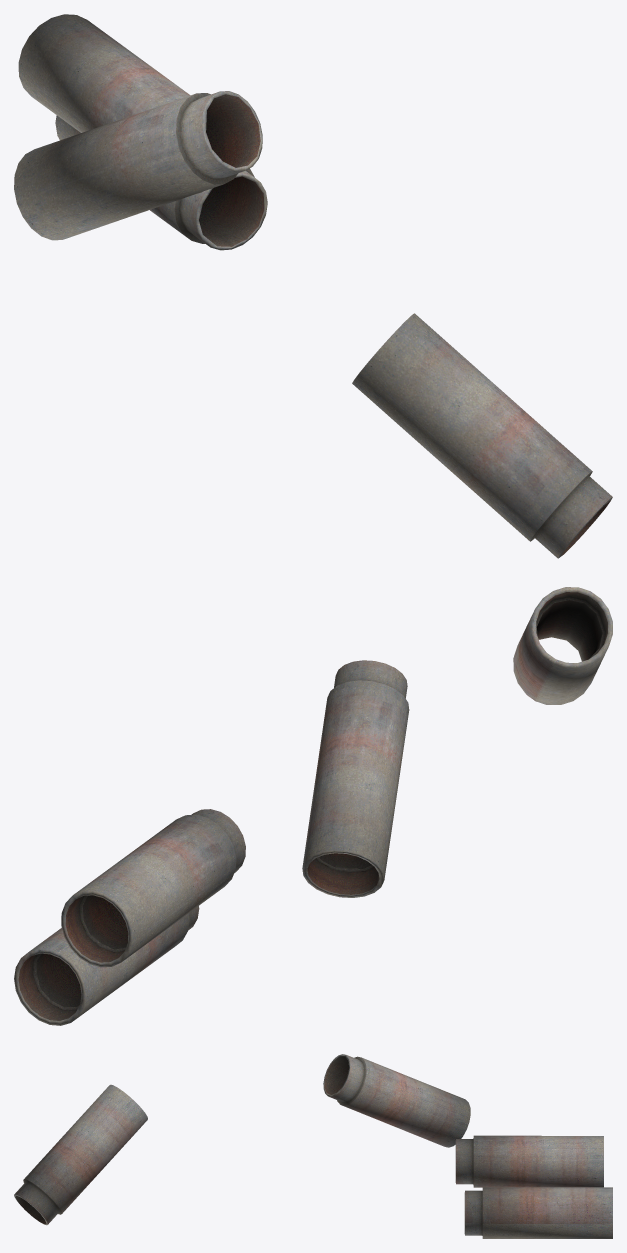
File: pipe_display_right.glb
3 renders of one model, top to bottom at view 1: azimuth 30°, elevation 25°; view 2: azimuth 150°, elevation 25°; view 3: azimuth 270°, elevation 25°, orthographic. The views are drawn at different scales.
Visible parts, largest first — view 1: Construction.002, Construction.004, Construction.005, Construction.001; view 2: Construction.004, Construction.005, Construction.002, Construction.001; view 3: Construction.002, Construction.005, Construction.001, Construction.004.
Boxes of the visible parts, x1,y1,x2,y2 form: Construction.002: (352,313,612,558); Construction.004: (14,91,262,240); Construction.005: (18,14,201,193); Construction.001: (55,115,267,250); Construction.004: (302,660,409,897); Construction.005: (61,809,245,967); Construction.002: (513,587,612,704); Construction.001: (14,906,199,1025); Construction.002: (14,1084,147,1225); Construction.005: (455,1135,603,1187); Construction.001: (464,1187,612,1238); Construction.004: (323,1054,470,1147).
Bounding box in the file's own units: 6.72 × 6.43 × 23.42.
Materials: 1 (1 with a texture image).
